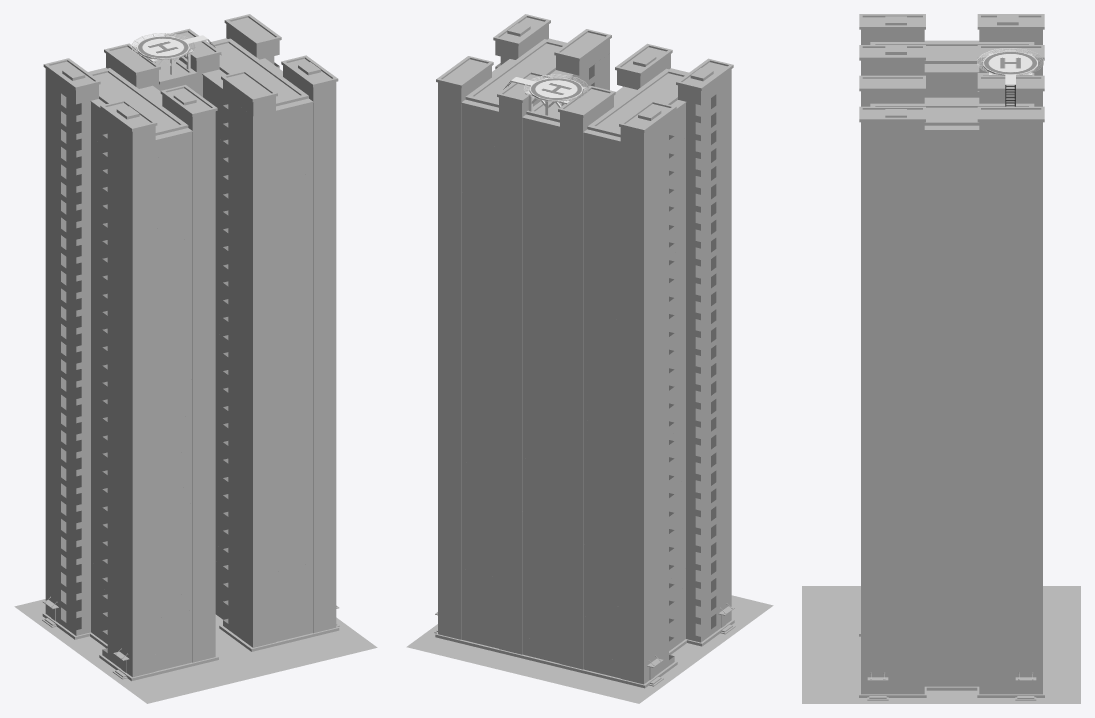
The model's file is Condominium_Mega.fbx.
3 renders of one model, left to right at view 1: azimuth 30°, elevation 25°; view 2: azimuth 150°, elevation 25°; view 3: azimuth 270°, elevation 25°, orthographic. The views are drawn at different scales.
Visible parts, largest first — view 1: Condominium_Mega, Condominium_Mega_Balcony, Condominium_Mega_BG, HelicopterPlace_001; view 2: Condominium_Mega, Condominium_Mega_Balcony, Condominium_Mega_BG, HelicopterPlace_001; view 3: Condominium_Mega, Condominium_Mega_Balcony, Condominium_Mega_BG, HelicopterPlace_001, HelicopterPlace_Alpha_DoubleSided_001.
Part boxes in pixels (left/top/right/bottom): Condominium_Mega: left=42, top=14, right=339, bottom=681; Condominium_Mega_Balcony: left=61, top=62, right=279, bottom=665; Condominium_Mega_BG: left=14, top=599, right=377, bottom=703; HelicopterPlace_001: left=132, top=35, right=215, bottom=74; Condominium_Mega: left=434, top=14, right=735, bottom=688; Condominium_Mega_Balcony: left=495, top=63, right=716, bottom=672; Condominium_Mega_BG: left=406, top=595, right=773, bottom=703; HelicopterPlace_001: left=503, top=77, right=587, bottom=115; Condominium_Mega: left=859, top=14, right=1044, bottom=700; Condominium_Mega_Balcony: left=892, top=149, right=1011, bottom=694; Condominium_Mega_BG: left=802, top=586, right=1080, bottom=703; HelicopterPlace_001: left=983, top=51, right=1037, bottom=106; HelicopterPlace_Alpha_DoubleSided_001: left=977, top=48, right=1043, bottom=76.
Bounding box in the file's own units: 4000 × 9223 × 4000.
